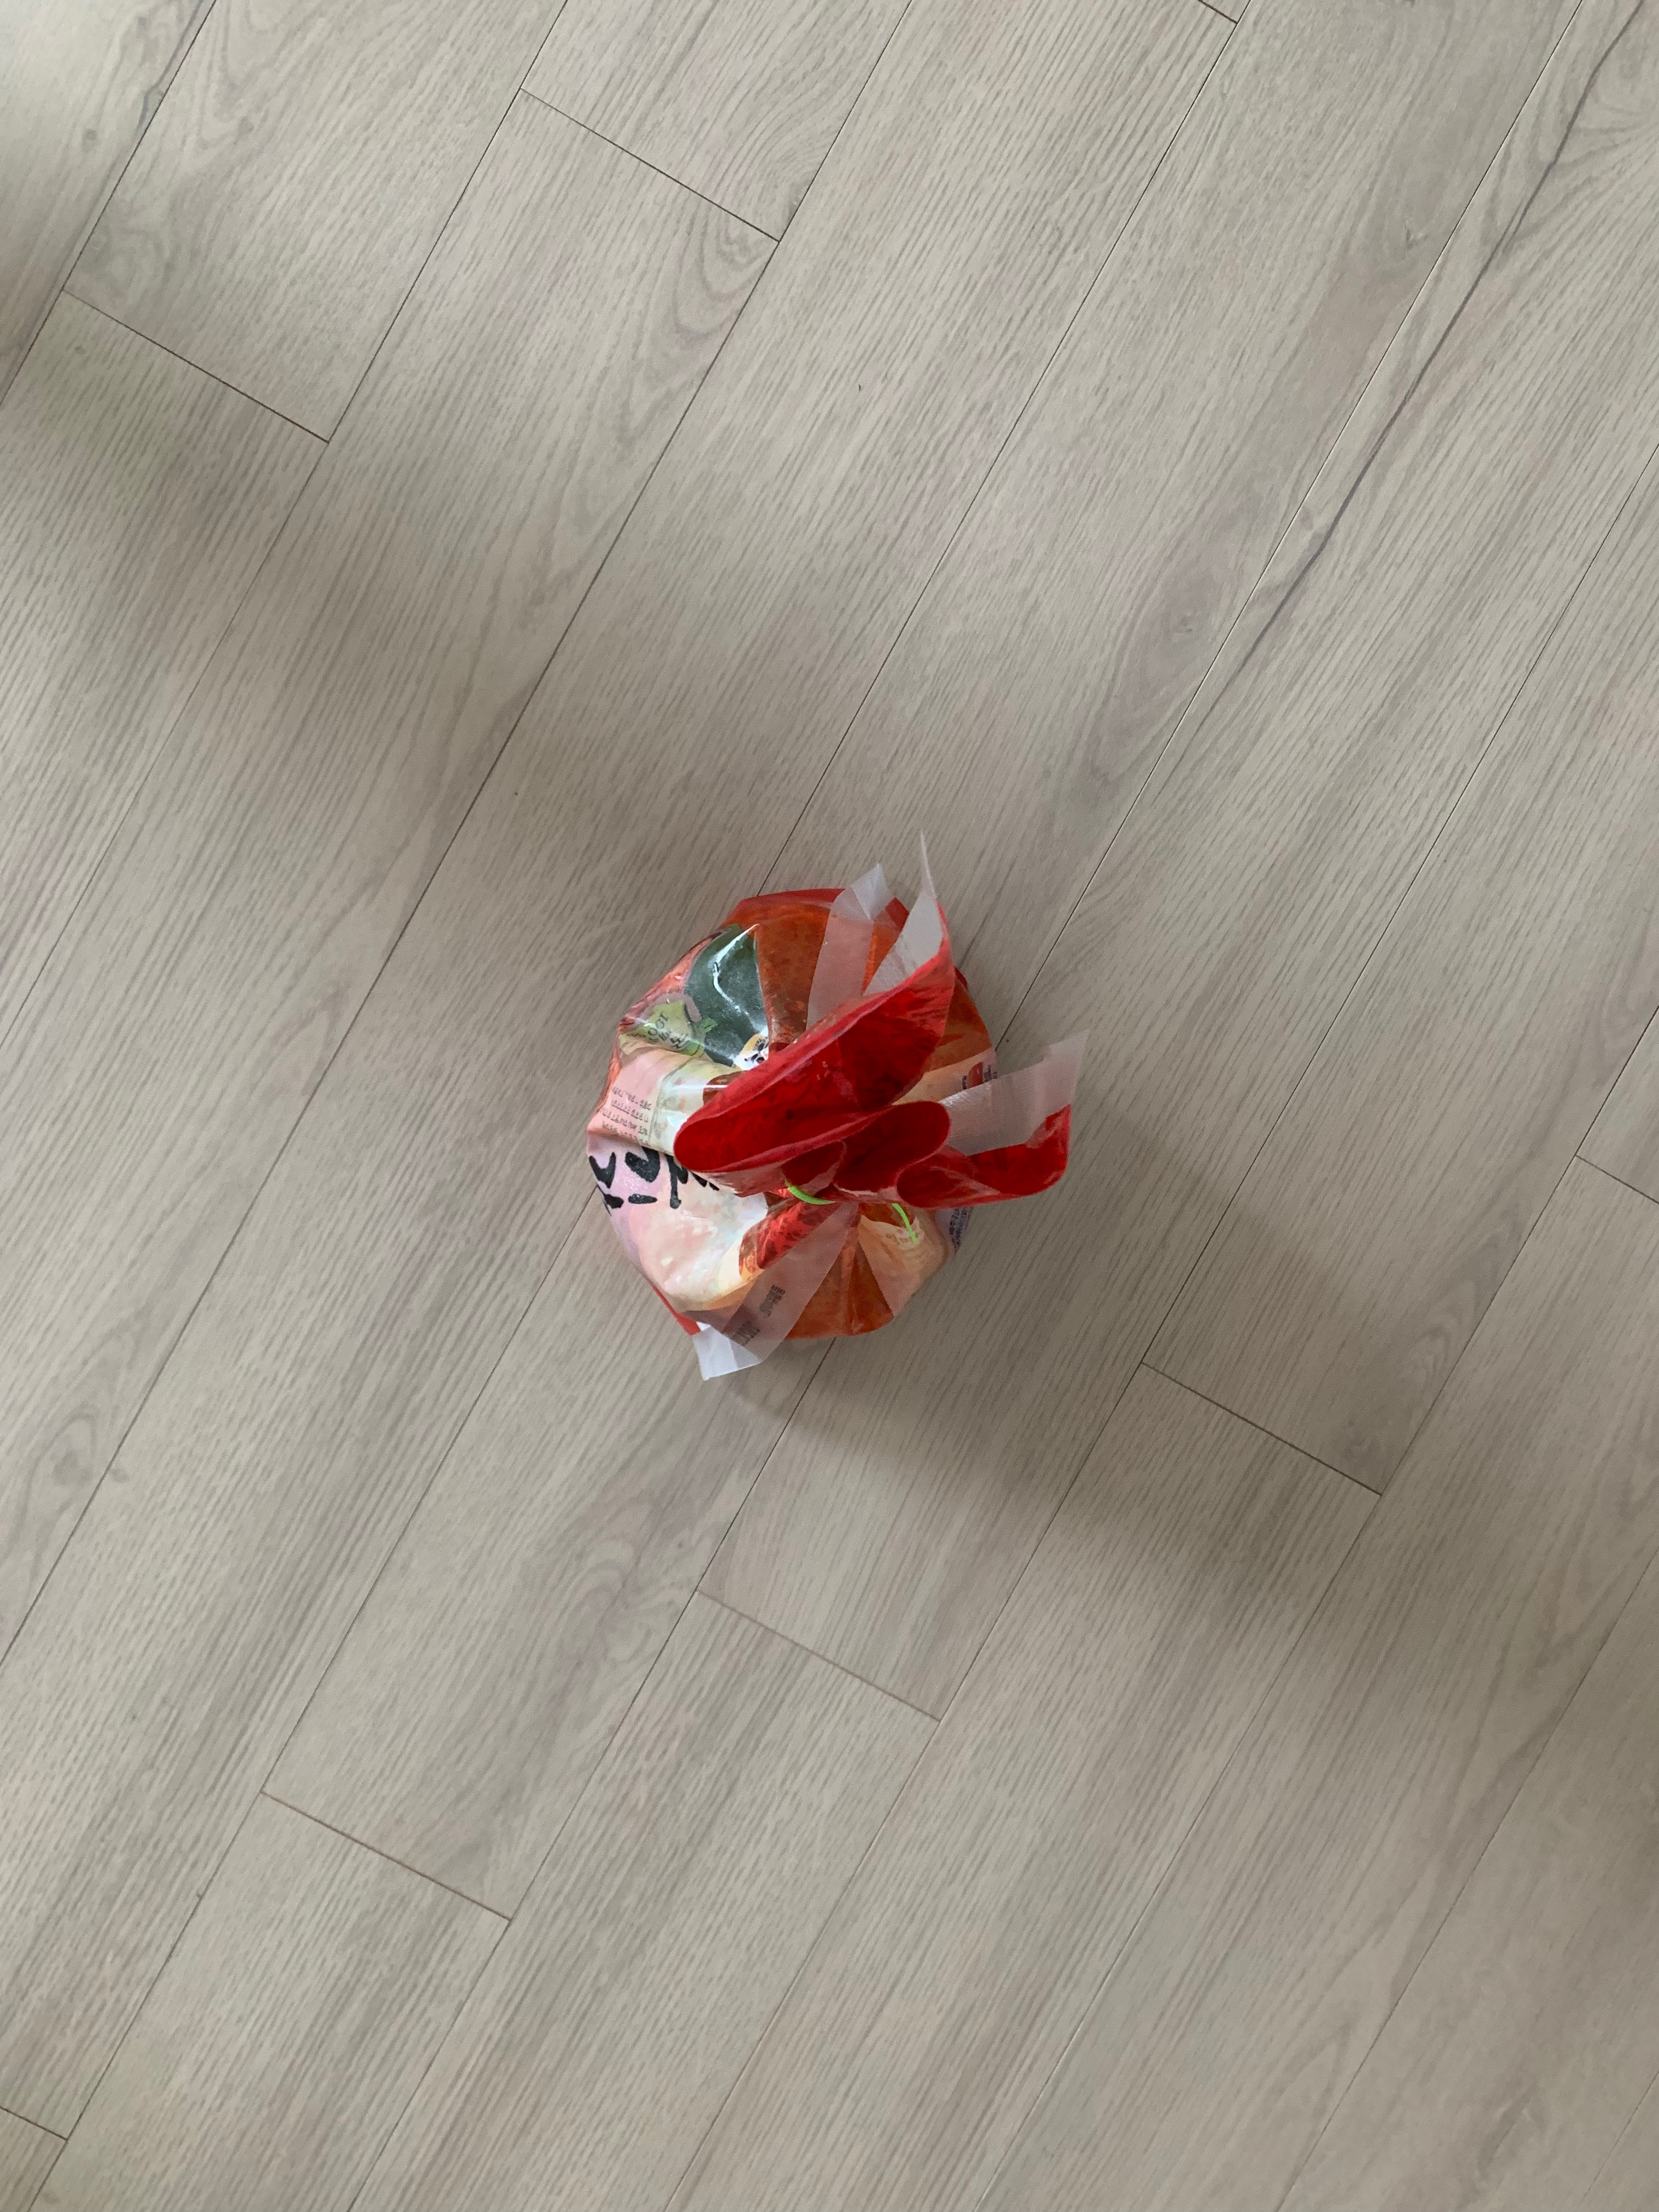kimchi: (586, 883, 1073, 1350)
